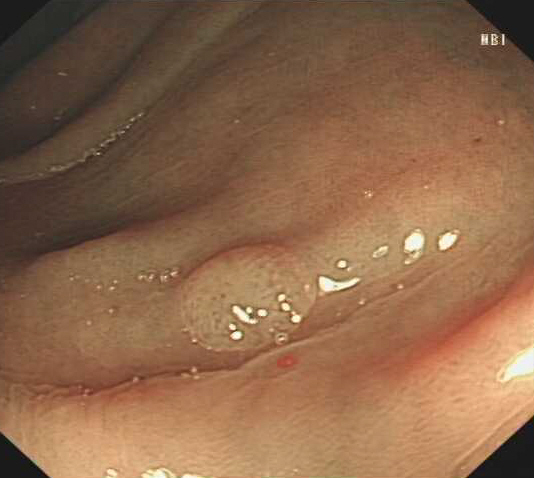others: (175, 241, 317, 355)
